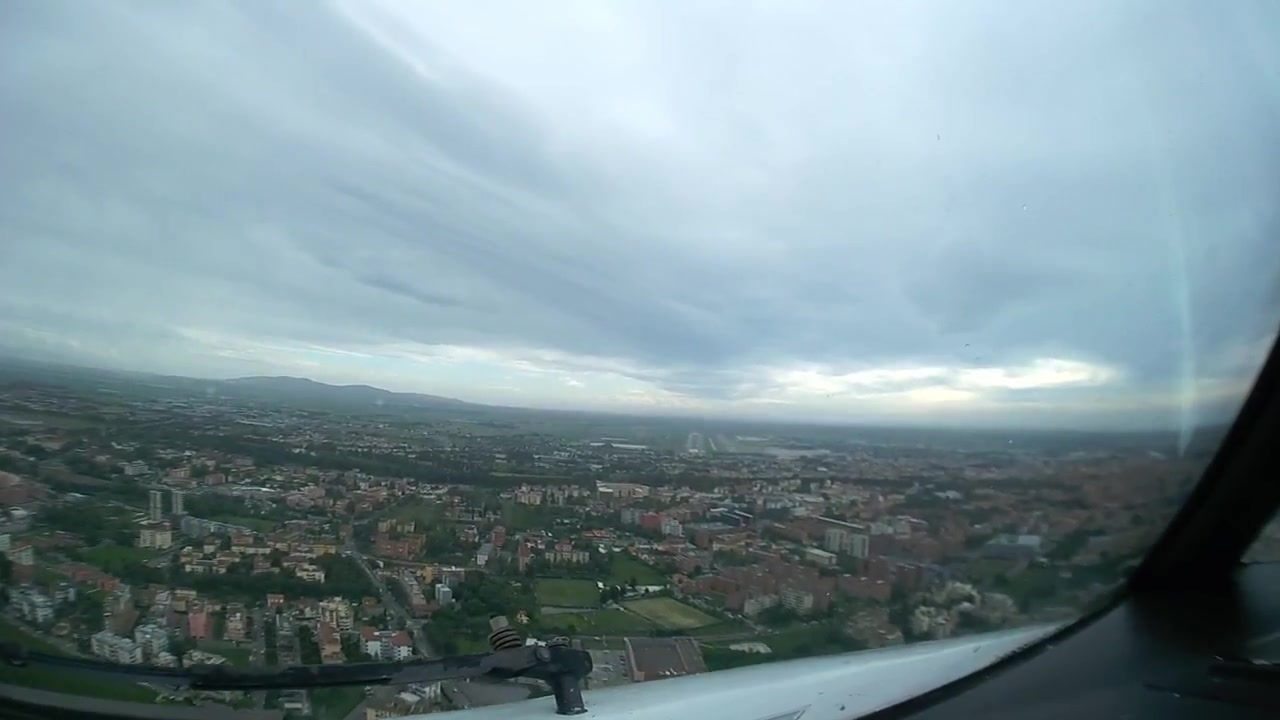runway: (685, 431, 704, 454)
